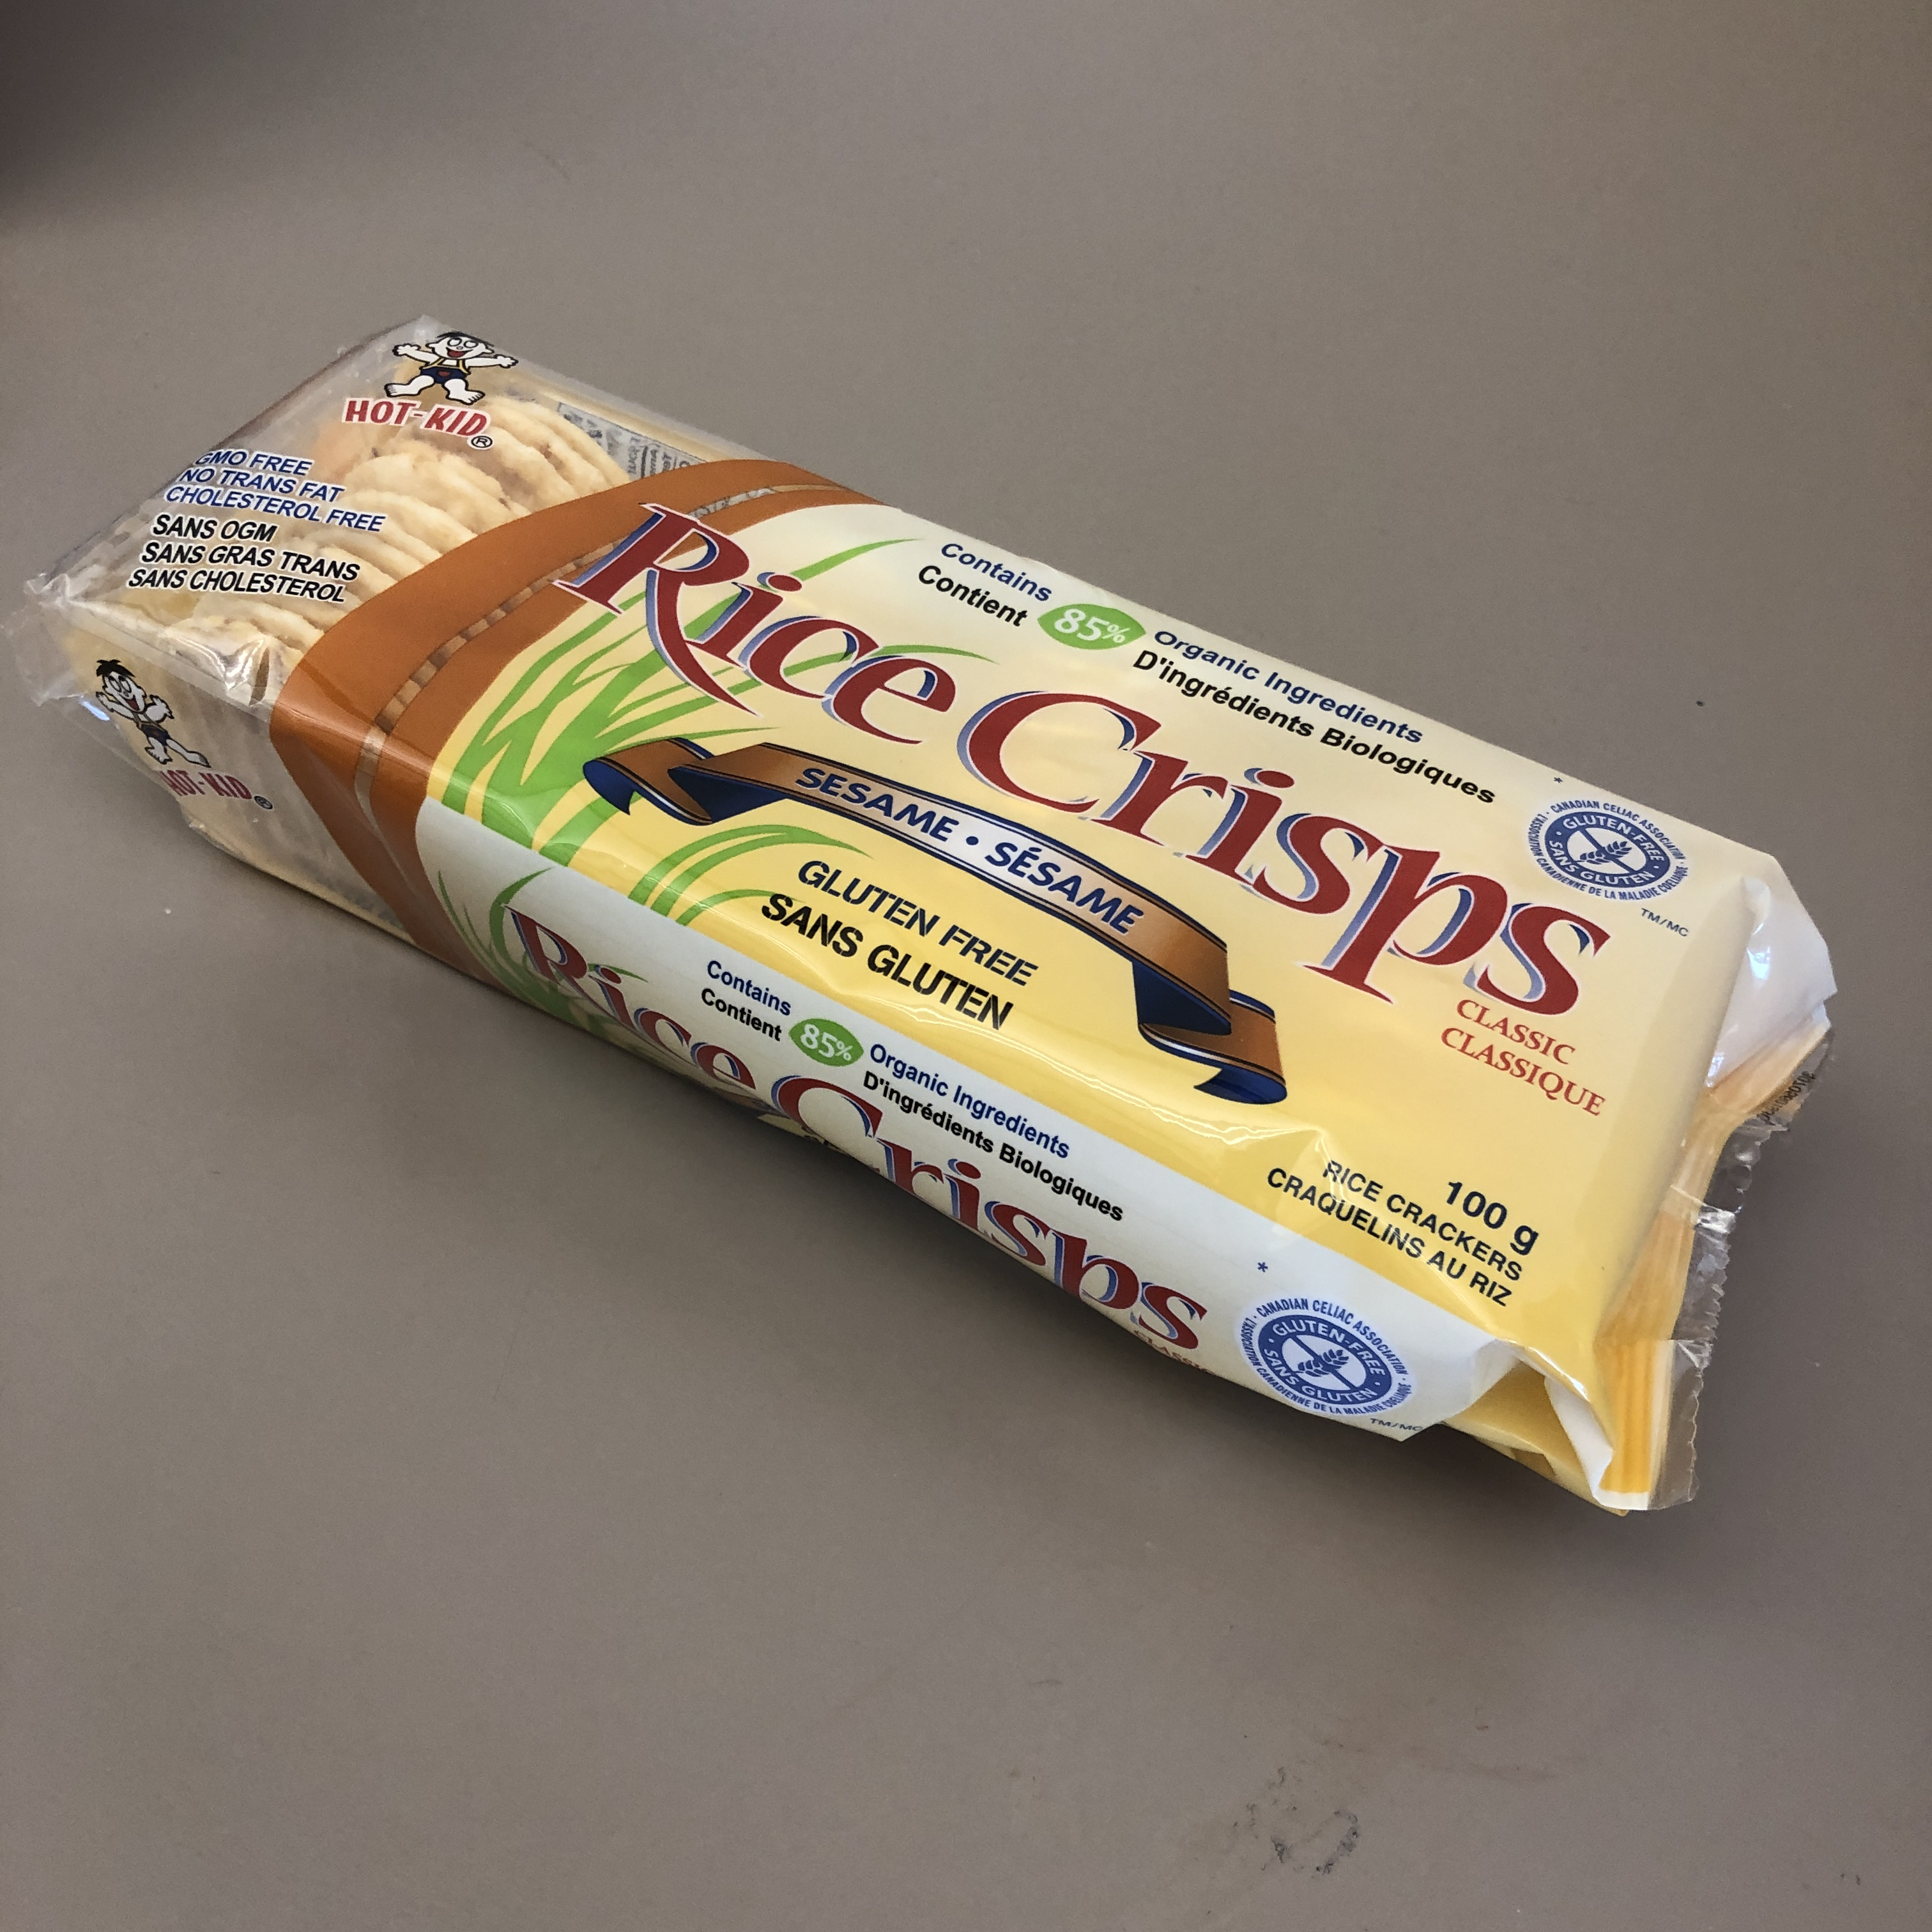hot_kid_rice_crisps_sesame: (470, 112, 1156, 1860)
